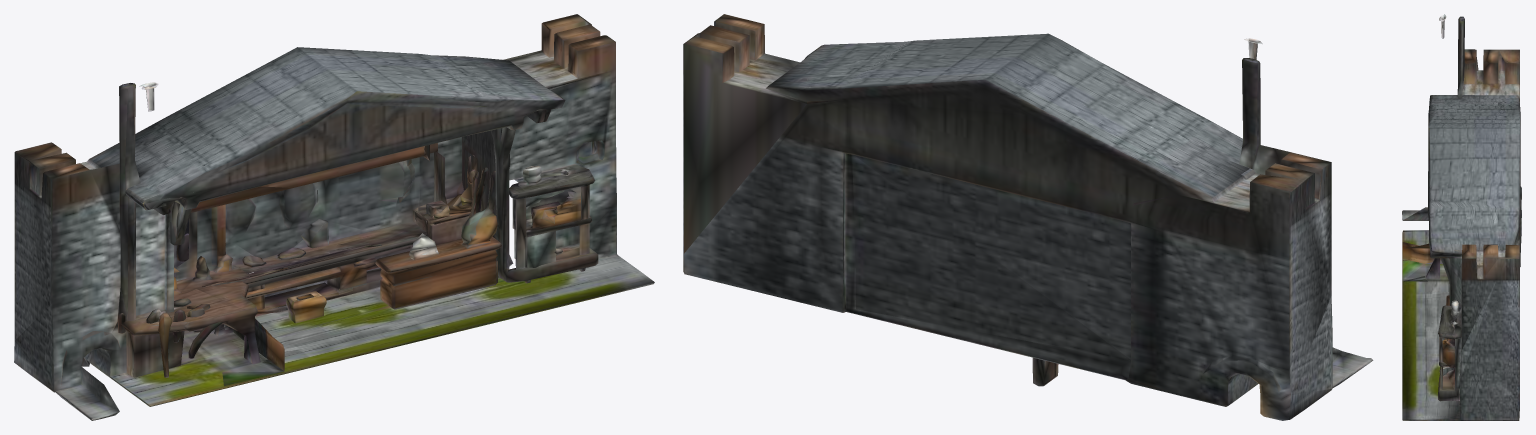
The model's file is briarhold-courtyard-service-arcade-512.glb.
The picture shows the model from 3 angles, left to right: view 1: azimuth 30°, elevation 25°; view 2: azimuth 150°, elevation 25°; view 3: azimuth 270°, elevation 25°; orthographic projection. The views are drawn at different scales.
Visible parts, largest first — view 1: briarhold-courtyard-service-arcade; view 2: briarhold-courtyard-service-arcade; view 3: briarhold-courtyard-service-arcade.
Part boxes in pixels (left/top/right/bottom): briarhold-courtyard-service-arcade: left=14, top=14, right=654, bottom=420; briarhold-courtyard-service-arcade: left=683, top=14, right=1373, bottom=420; briarhold-courtyard-service-arcade: left=1402, top=14, right=1521, bottom=420.
Bounding box in the file's own units: 5.8 × 3.2 × 1.4.
Materials: 1 (1 with a texture image).
